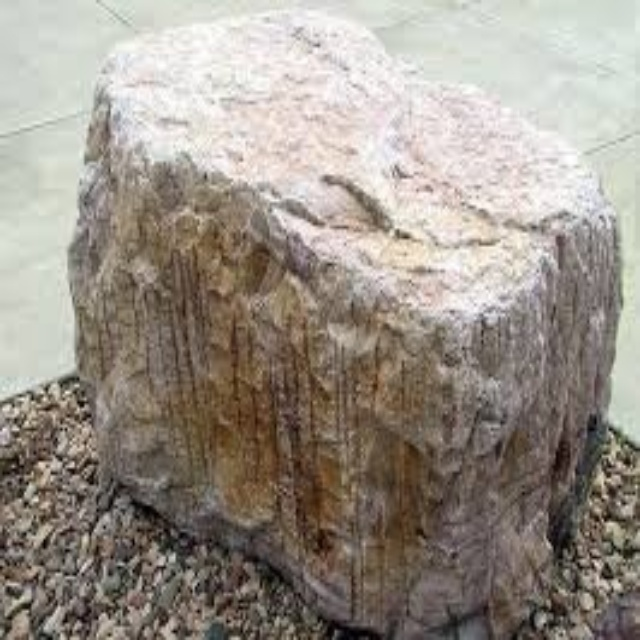obstacle: (75, 10, 614, 633)
